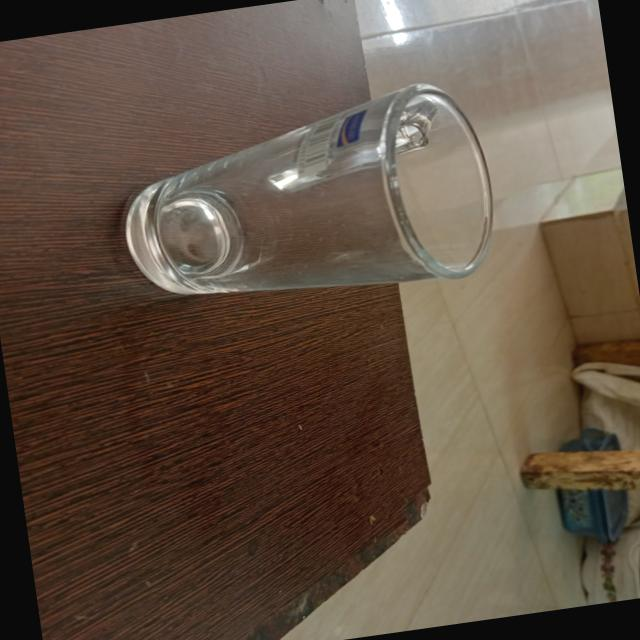glass-VX4N: (92, 70, 512, 328)
